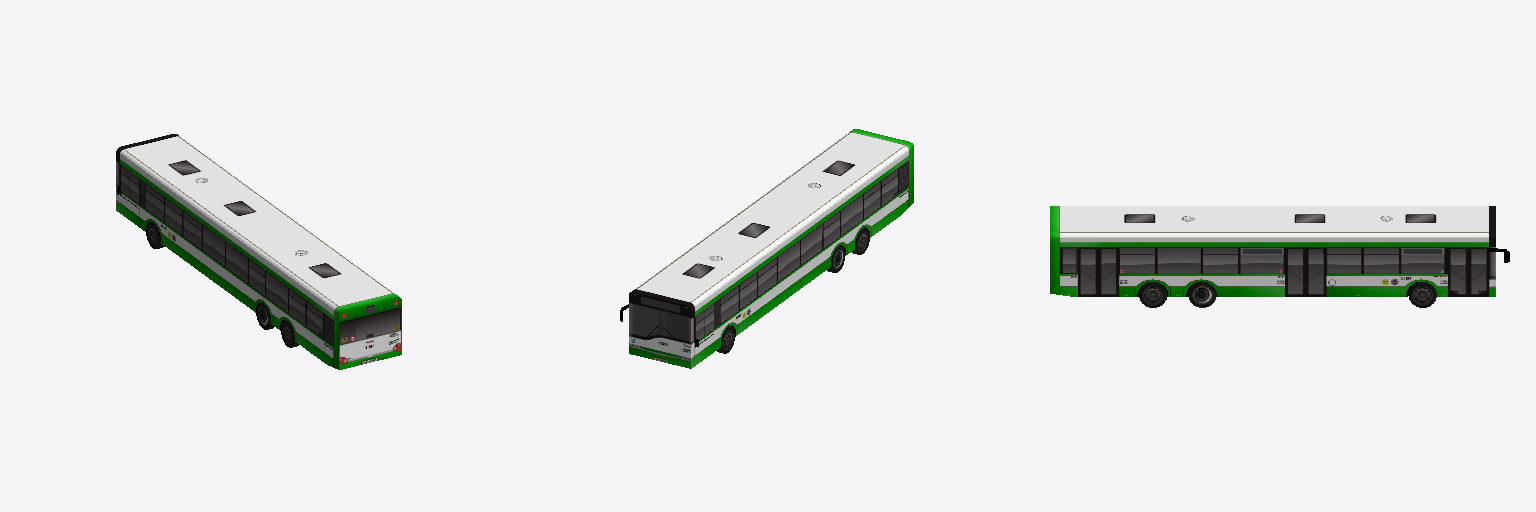
The picture shows the model from 3 angles: view 1: azimuth 30°, elevation 25°; view 2: azimuth 150°, elevation 25°; view 3: azimuth 270°, elevation 25°; orthographic projection.
Visible parts, largest first — view 1: Box008; view 2: Box008; view 3: Box008, Cylinder006, Cylinder009, Cylinder008.
Boxes of the visible parts, <box> form: Box008: <box>116,134,401,369</box>; Box008: <box>620,129,913,368</box>; Box008: <box>1050,206,1509,296</box>; Cylinder006: <box>1139,282,1166,307</box>; Cylinder009: <box>1409,282,1436,307</box>; Cylinder008: <box>1188,282,1216,307</box>.
Size of the model in its own units: 3.34 by 3.33 by 18.87.
Materials: 1 (1 with a texture image).